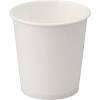cup: (11, 2, 91, 100)
